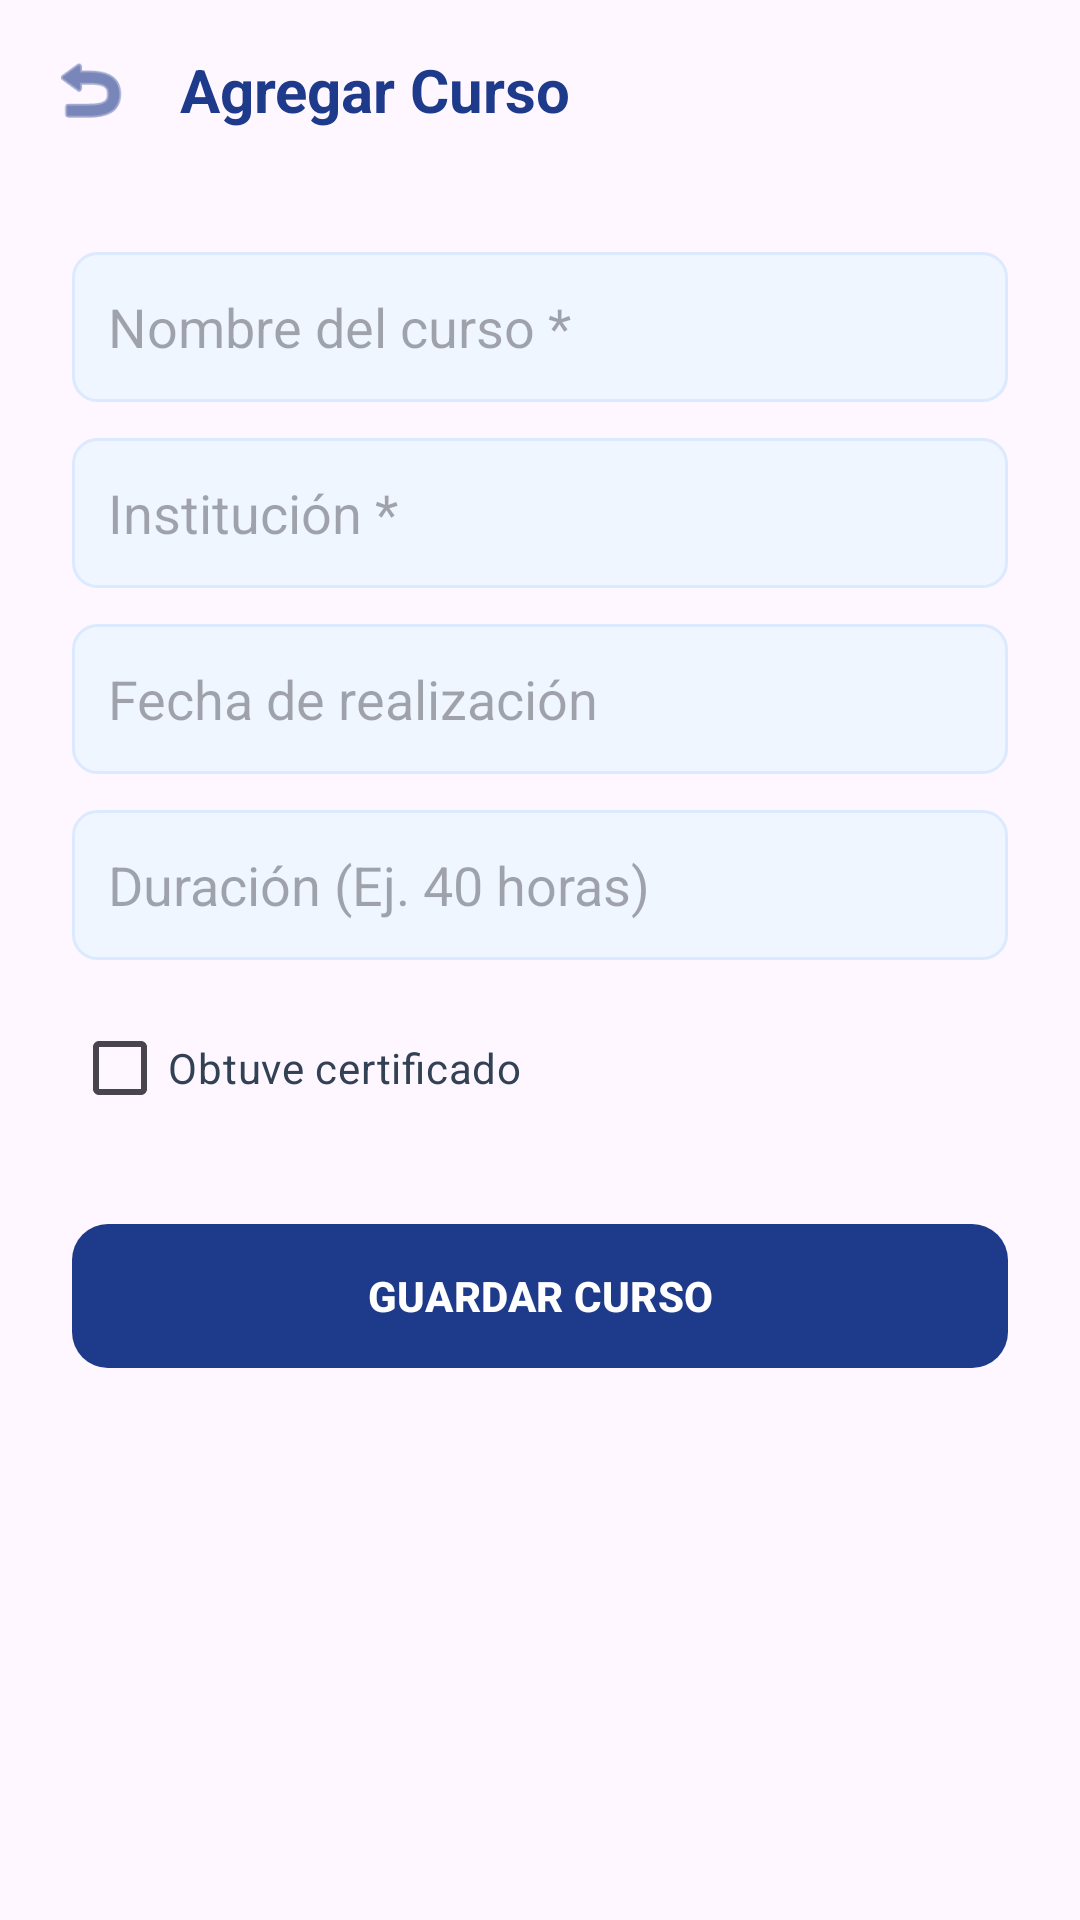

Screen size 1080w x 1920h. Icon name, then its box in pixels as (x1,y1,x2,y2):
revert: (61,63,121,118)
